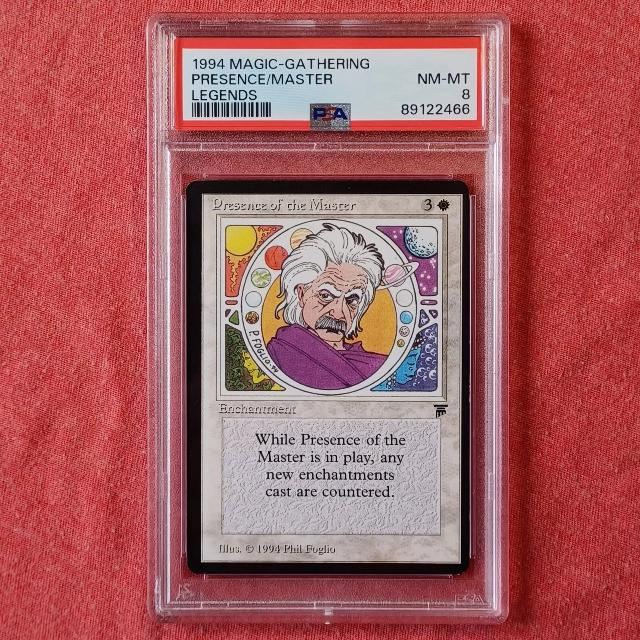card: (185, 179, 471, 575)
psa_label: (172, 36, 483, 132)
psa_slab: (146, 11, 511, 626)
